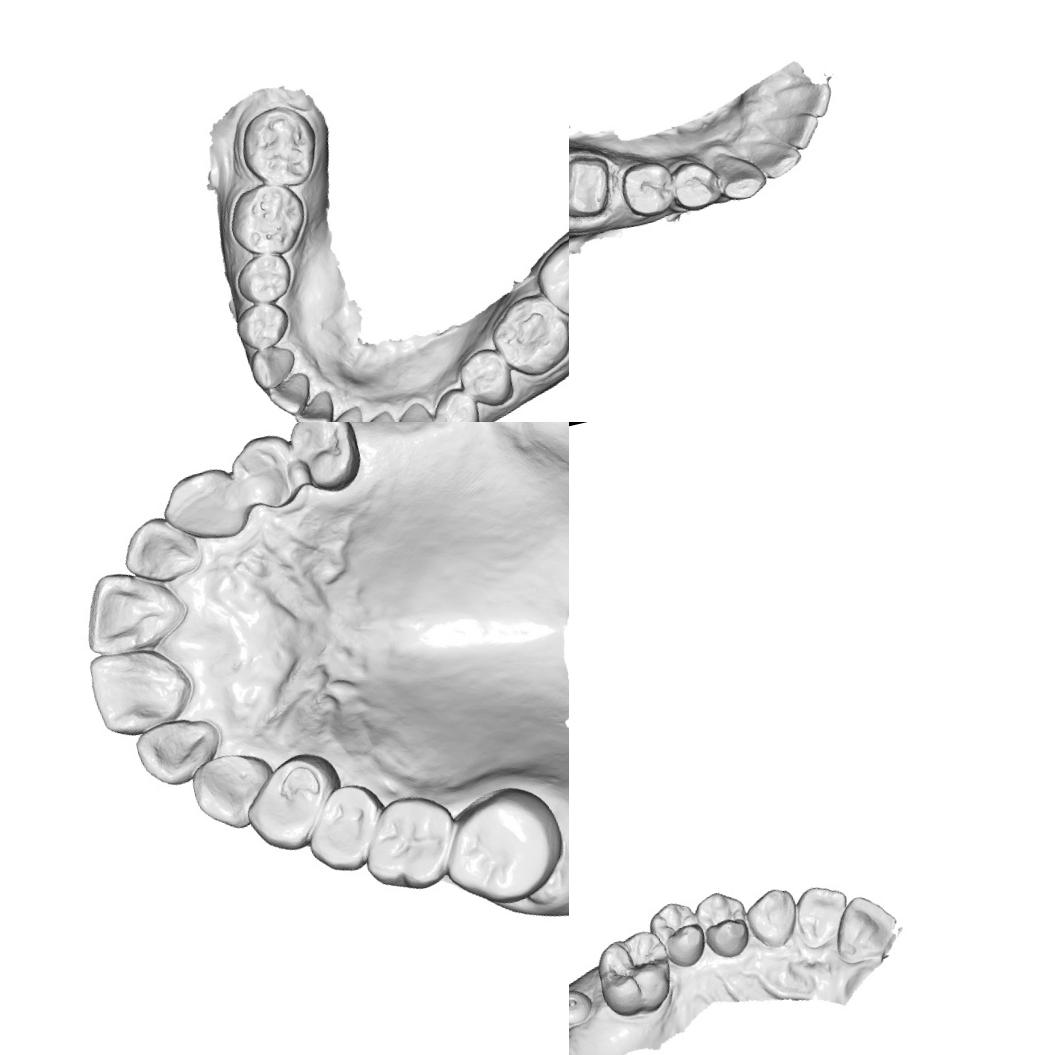canine: (183, 742, 285, 842), (153, 456, 252, 556), (742, 884, 803, 952), (710, 142, 770, 206), (246, 340, 302, 393), (387, 398, 440, 422)
crown: (569, 145, 622, 226)
implant: (569, 983, 595, 1028)
incisor: (69, 556, 193, 666), (82, 637, 197, 746), (130, 712, 222, 794), (116, 508, 207, 589), (826, 889, 906, 970), (792, 876, 854, 943), (757, 105, 824, 158), (742, 130, 807, 184), (778, 76, 837, 126), (264, 370, 316, 421), (289, 388, 340, 422), (319, 403, 371, 422), (352, 408, 403, 422)
molar: (429, 778, 569, 916), (352, 786, 463, 902), (232, 97, 327, 197), (590, 927, 680, 1024), (482, 286, 569, 384), (221, 174, 314, 264), (528, 223, 569, 334)
premolar: (236, 746, 354, 860), (294, 778, 392, 882), (221, 425, 310, 519), (281, 422, 368, 500), (644, 897, 710, 974), (451, 342, 518, 414), (693, 887, 754, 962), (614, 155, 680, 223), (230, 247, 297, 310), (230, 297, 296, 355), (667, 154, 725, 216), (426, 383, 485, 422)
